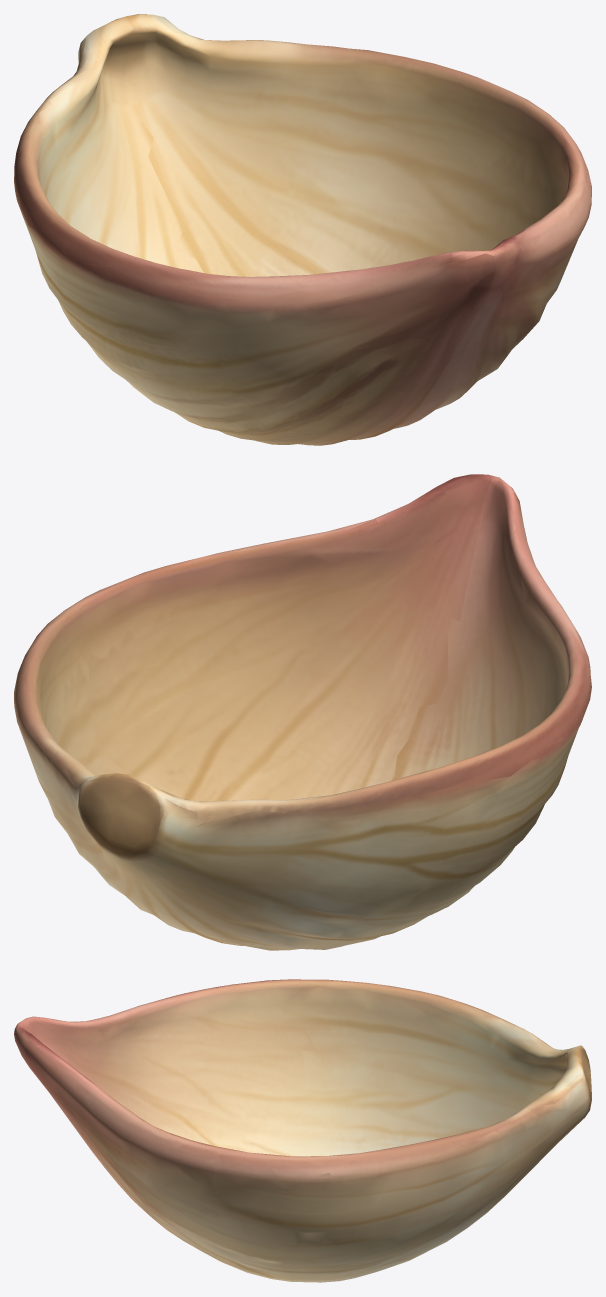
Rendered from lotus-petal-aholo-8295893.glb.
The picture shows the model from 3 angles, top to bottom: view 1: azimuth 30°, elevation 25°; view 2: azimuth 150°, elevation 25°; view 3: azimuth 270°, elevation 25°; orthographic projection. The views are drawn at different scales.
Visible parts, largest first — view 1: LotusPetal_Aholo_8295893; view 2: LotusPetal_Aholo_8295893; view 3: LotusPetal_Aholo_8295893.
Boxes of the visible parts, box(x1,y1,x2,y2) form: LotusPetal_Aholo_8295893: box(14, 14, 591, 445); LotusPetal_Aholo_8295893: box(14, 474, 591, 950); LotusPetal_Aholo_8295893: box(14, 979, 591, 1282).
Bounding box in the file's own units: 0.7776 × 0.4631 × 1.02.
Materials: 1 (1 with a texture image).
